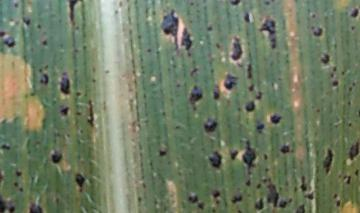tarspot: (158, 5, 180, 54), (241, 137, 258, 174), (260, 16, 278, 49), (264, 175, 281, 209), (319, 144, 337, 176), (186, 85, 206, 111), (84, 95, 97, 129), (67, 1, 82, 29), (230, 33, 243, 65), (221, 71, 239, 92), (346, 136, 360, 161), (201, 116, 220, 134), (180, 26, 193, 51), (206, 150, 223, 168), (58, 74, 70, 97), (48, 150, 65, 165), (19, 13, 34, 30), (243, 99, 258, 115), (251, 196, 265, 213), (72, 172, 86, 188), (26, 201, 44, 213), (37, 72, 51, 87), (268, 112, 283, 126), (244, 62, 255, 80), (58, 103, 71, 118), (310, 24, 323, 39), (230, 193, 245, 206), (254, 120, 266, 136), (298, 174, 308, 193), (210, 187, 223, 201), (277, 144, 293, 155), (184, 193, 200, 204), (348, 6, 360, 20), (2, 38, 18, 48), (156, 147, 169, 159), (347, 22, 360, 34), (228, 148, 239, 162), (210, 88, 221, 102), (294, 202, 308, 213), (320, 51, 330, 66), (243, 10, 252, 26), (188, 65, 200, 77), (276, 200, 289, 211), (303, 191, 317, 201), (256, 87, 265, 102), (212, 40, 223, 52), (40, 37, 50, 50), (314, 104, 323, 118), (333, 198, 344, 209), (205, 23, 215, 35), (244, 176, 254, 188), (80, 41, 89, 54), (1, 143, 12, 153), (308, 11, 319, 21), (173, 81, 183, 92), (1, 195, 7, 213), (261, 151, 270, 163), (290, 185, 299, 197), (228, 1, 243, 8), (1, 170, 7, 187), (330, 78, 340, 88), (11, 1, 21, 11), (196, 201, 206, 211), (14, 168, 25, 177), (74, 108, 83, 119), (262, 165, 271, 176), (344, 174, 352, 186), (248, 81, 255, 94), (183, 51, 196, 58), (135, 194, 144, 204), (173, 123, 182, 133), (144, 47, 154, 56), (89, 76, 98, 86), (73, 90, 84, 98), (346, 119, 354, 130), (36, 21, 43, 33), (331, 63, 338, 75), (345, 99, 354, 108), (352, 167, 360, 177), (330, 191, 340, 199), (347, 84, 354, 95), (263, 1, 274, 8), (12, 179, 20, 188), (8, 203, 15, 213), (235, 206, 245, 213), (43, 62, 50, 72), (255, 182, 262, 191), (1, 30, 8, 38), (17, 187, 25, 194)
